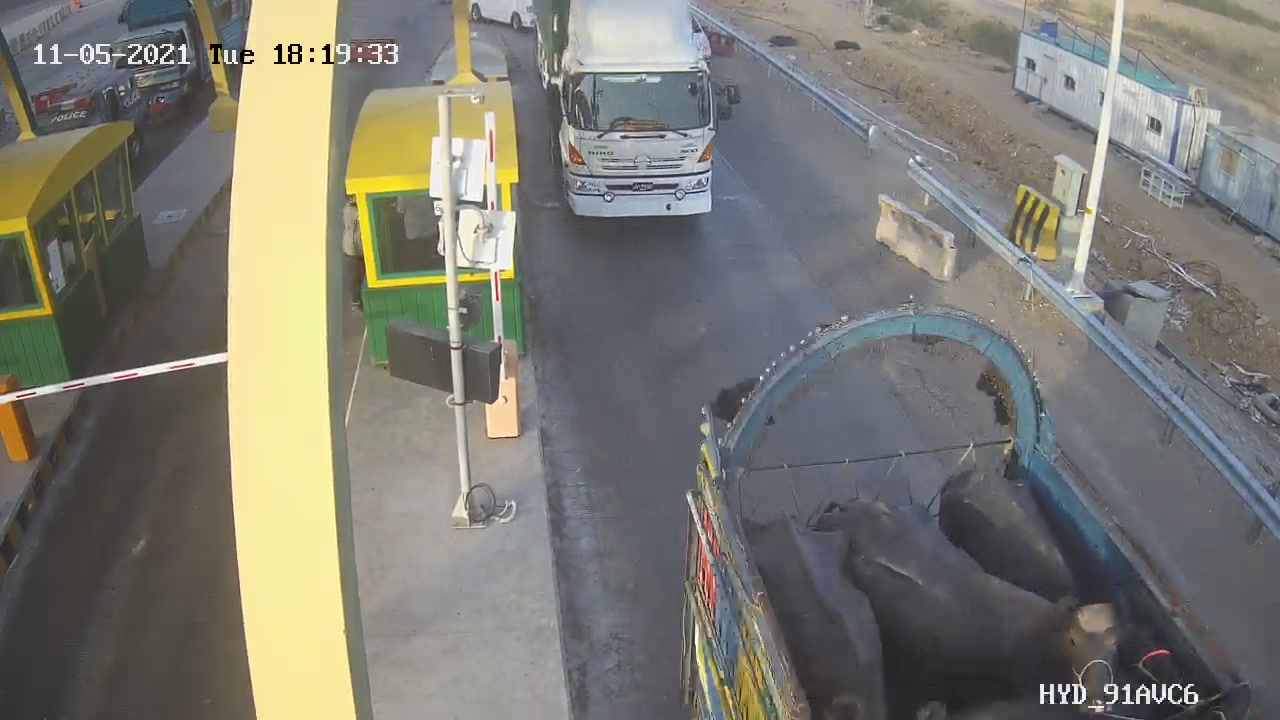F6: (531, 14, 759, 219)
